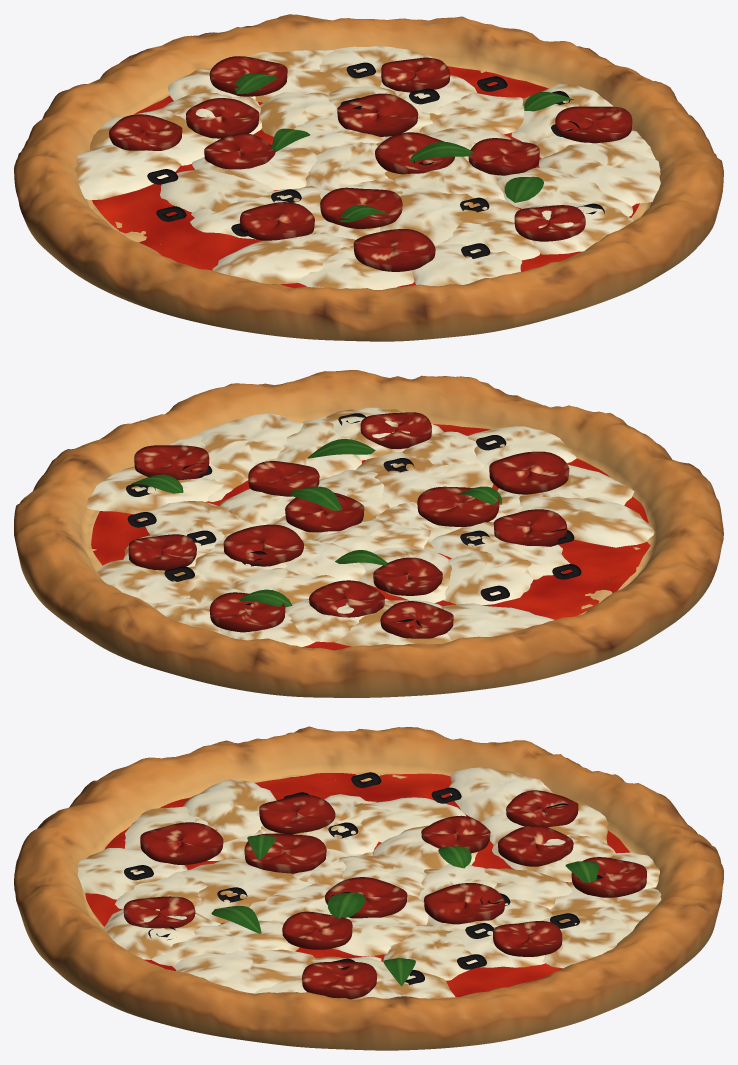
File: pizza_mario.glb
3 views of the same model, one above another, from view 1: azimuth 30°, elevation 25°; view 2: azimuth 150°, elevation 25°; view 3: azimuth 270°, elevation 25° (orthographic).
Visible parts, largest first — view 1: dough, sauce, cheese3, cheese11, cheese4, cheese19, cheese13, cheese2, cheese9, pep6, cheese25, cheese20 (+36 smaller); view 2: dough, sauce, cheese11, cheese3, cheese4, cheese13, cheese28, cheese5, cheese29, pep6, pep12, cheese25 (+35 smaller); view 3: dough, sauce, cheese3, cheese4, cheese11, cheese25, cheese19, cheese9, pep6, cheese2, cheese29, cheese13 (+38 smaller).
Boxes of the visible parts, x1,y1,x2,y2 form: dough: [14, 14, 723, 341]; sauce: [92, 66, 639, 288]; cheese3: [539, 144, 660, 206]; cheese11: [212, 233, 355, 284]; cheese4: [380, 188, 519, 245]; cheese19: [74, 145, 181, 199]; cheese13: [160, 168, 273, 212]; cheese2: [419, 92, 524, 134]; cheese9: [411, 244, 522, 286]; pep6: [353, 229, 435, 271]; cheese25: [495, 167, 632, 216]; cheese20: [305, 142, 387, 190]; dough: [14, 370, 723, 697]; sauce: [91, 424, 650, 650]; cheese11: [519, 495, 654, 547]; cheese3: [198, 413, 303, 478]; cheese4: [356, 451, 493, 507]; cheese13: [443, 551, 532, 604]; cheese28: [87, 466, 223, 514]; cheese5: [430, 521, 570, 579]; cheese29: [96, 559, 221, 603]; pep6: [489, 451, 569, 494]; pep12: [223, 524, 303, 566]; cheese25: [274, 417, 361, 479]; dough: [14, 726, 723, 1050]; sauce: [85, 773, 629, 996]; cheese3: [172, 949, 315, 993]; cheese4: [182, 858, 311, 922]; cheese11: [183, 779, 276, 842]; cheese25: [151, 920, 299, 965]; cheese19: [449, 767, 553, 821]; cheese9: [77, 848, 187, 899]; pep6: [140, 822, 223, 864]; cheese2: [383, 924, 477, 980]; cheese29: [541, 910, 633, 968]; cheese13: [354, 797, 465, 842].
Size of the model in its own units: 1.99 by 0.1321 by 2.
